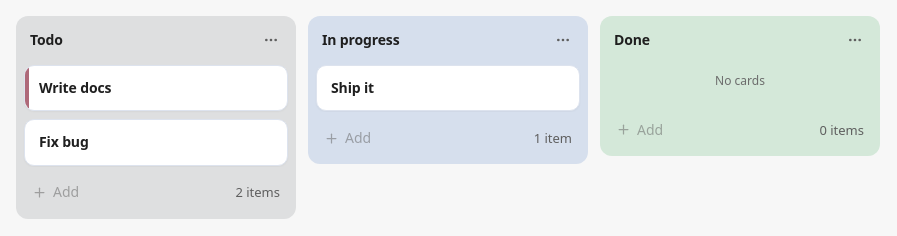
Test: KanbanBoard › stack menu › offers none of that without the handlers, and keeps Hide for people who may change the view
Click the button named "Options for Todo". click: x=271, y=40
box: x1=256 y1=25 x2=286 y2=55
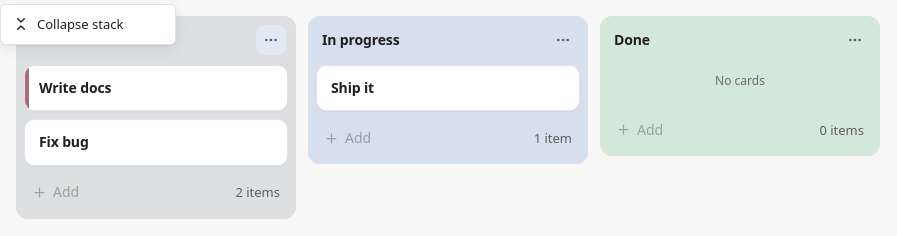
Now the menu item "Collapse stack" is shown, box x1=13 y1=15 x2=123 y2=33
